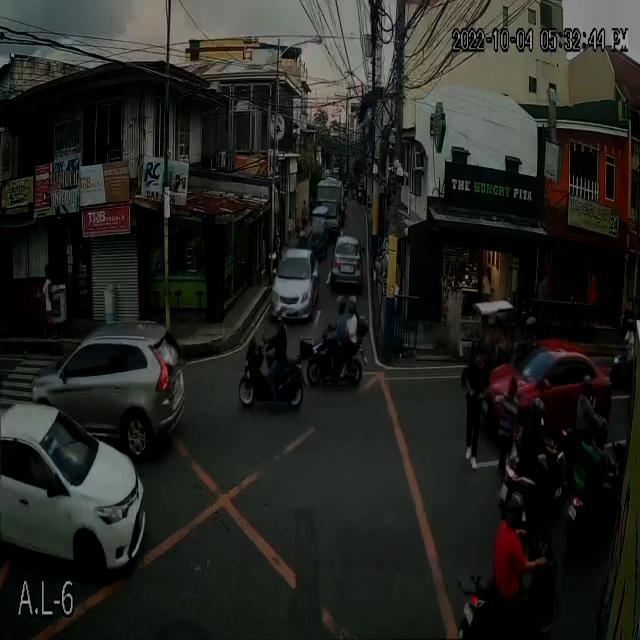Full-Faced: (502, 492, 528, 530), (528, 398, 544, 426), (592, 417, 607, 441), (332, 291, 346, 313), (344, 295, 358, 314), (580, 375, 591, 395), (624, 316, 634, 334)
Half-Faced: (273, 299, 288, 325)
